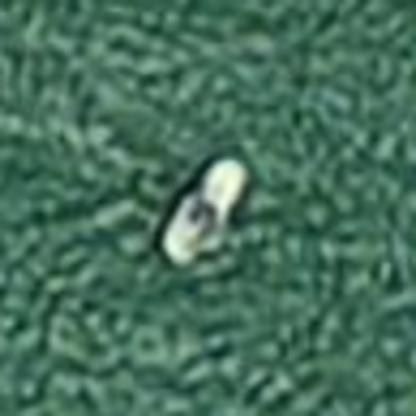ship: (151, 144, 263, 274)
